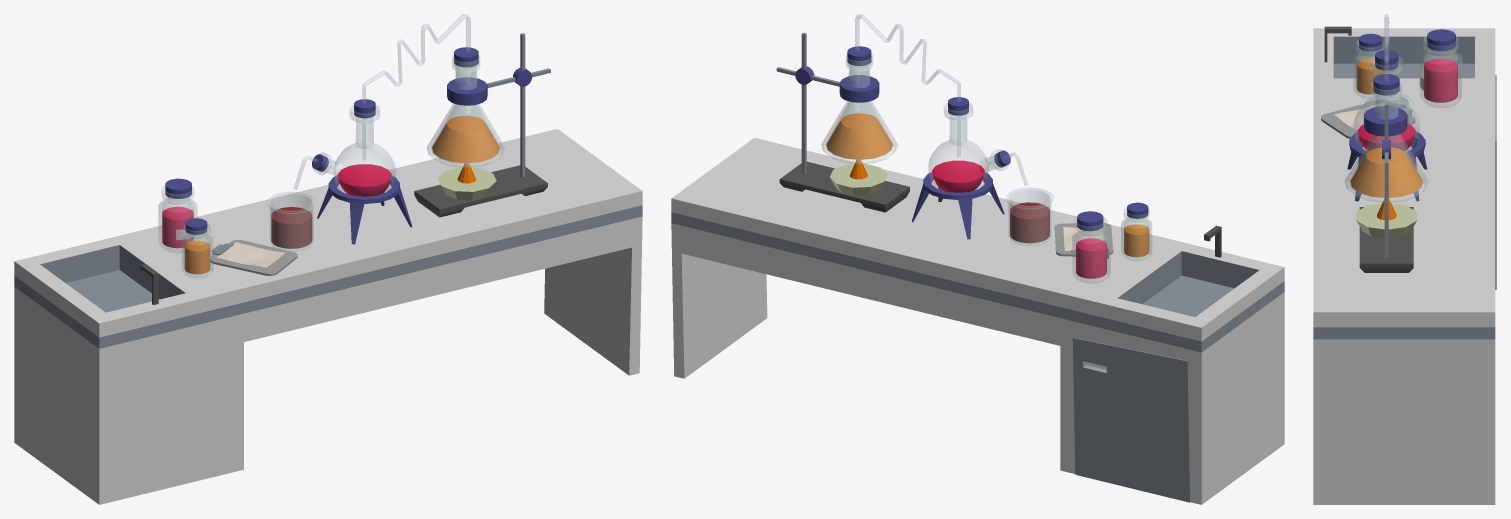
File: Ilot_teacher.fbx
3 renders of one model, left to right at view 1: azimuth 30°, elevation 25°; view 2: azimuth 150°, elevation 25°; view 3: azimuth 270°, elevation 25°, orthographic. The views are drawn at different scales.
Parts seen in each view (by area): view 1: materiel; view 2: materiel, porte; view 3: materiel, porte.
Boxes of the visible parts, x1,y1,x2,y2 form: materiel: [14, 14, 642, 504]; materiel: [671, 14, 1284, 504]; porte: [1072, 337, 1190, 502]; materiel: [1313, 14, 1495, 504]; porte: [1495, 75, 1496, 289].
Size of the model in its own units: 782 by 507 by 214.
